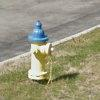Hydrant: (23, 14, 70, 90)
